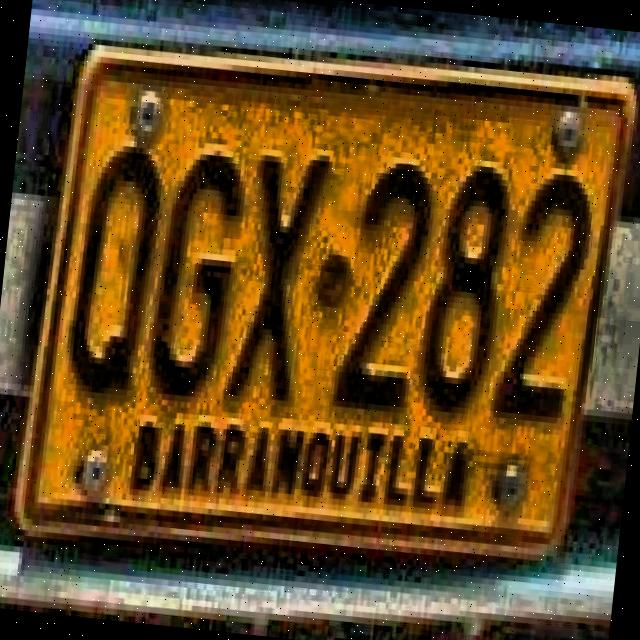plate: (21, 57, 628, 546)
